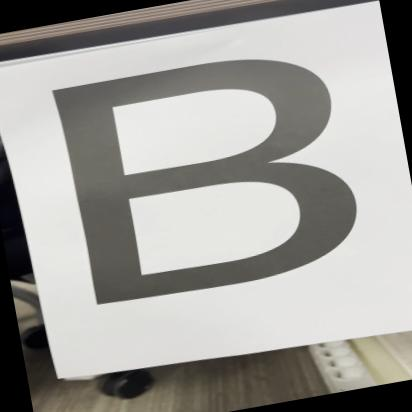seat: (27, 19, 392, 323)
